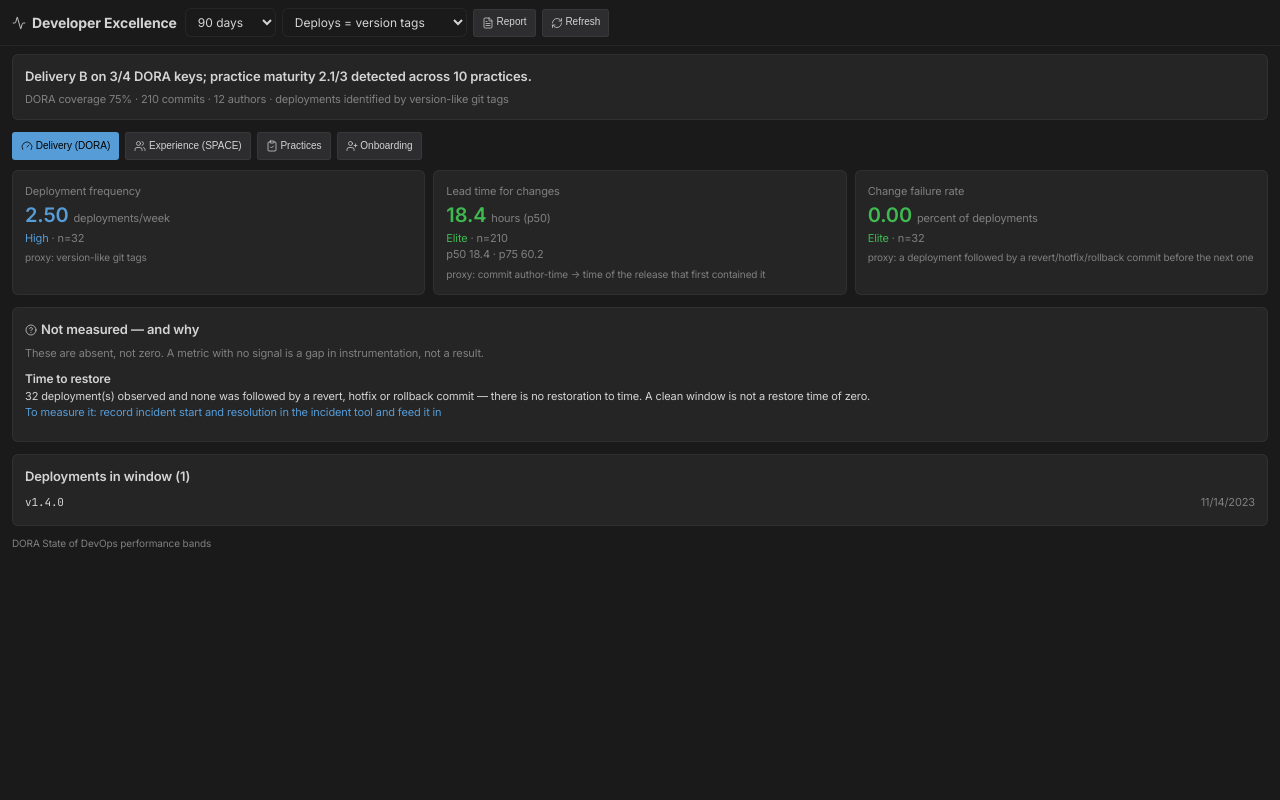
Test case: DeveloperExcellencePanel › clears stale numbers when a re-measurement fails
Check: the text "Deployment frequency" is shown, box x1=25 y1=184 x2=141 y2=198
Select "365 days" in the dropdown named "Measurement window" at (230, 22), box x1=185 y1=8 x2=276 y2=37
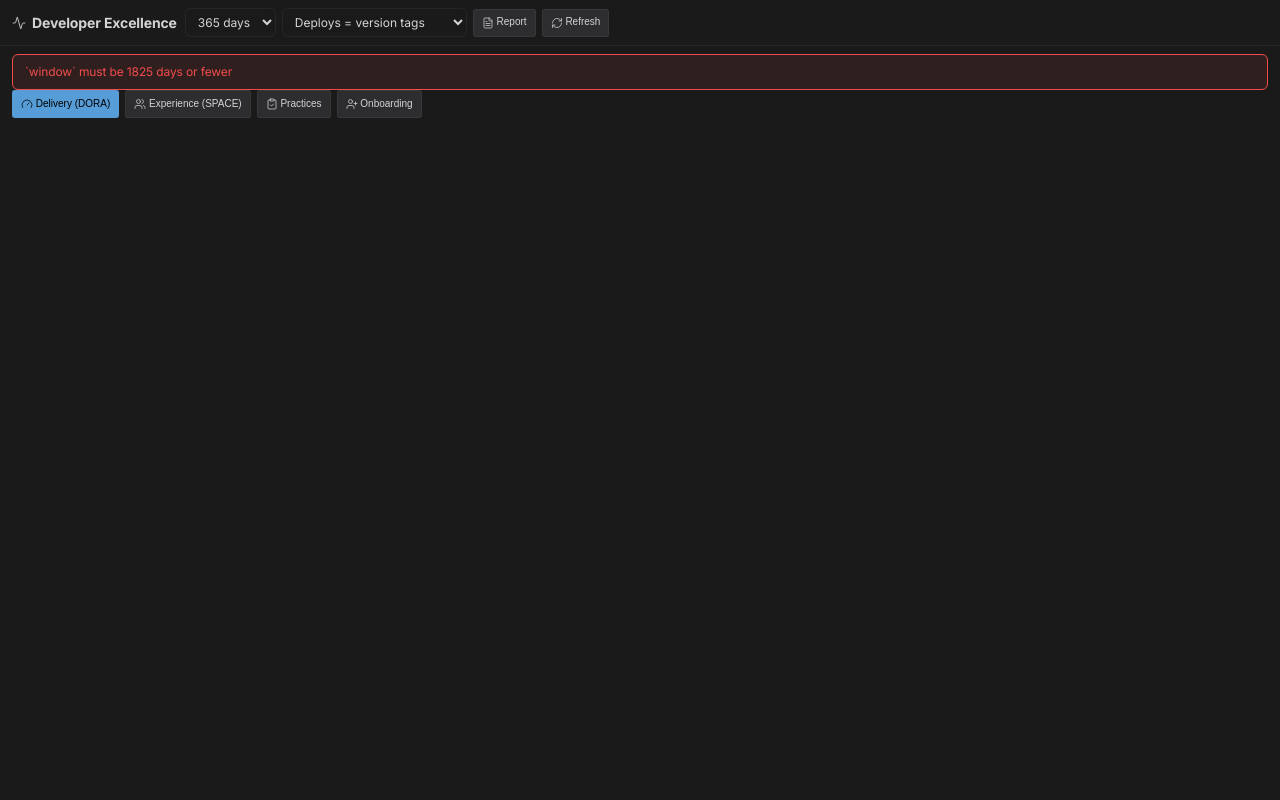
Check: the text "`window` must be 1825 days or fewer" is shown, box x1=12 y1=54 x2=1268 y2=90
Check: the text "Deployment frequency" is gone
